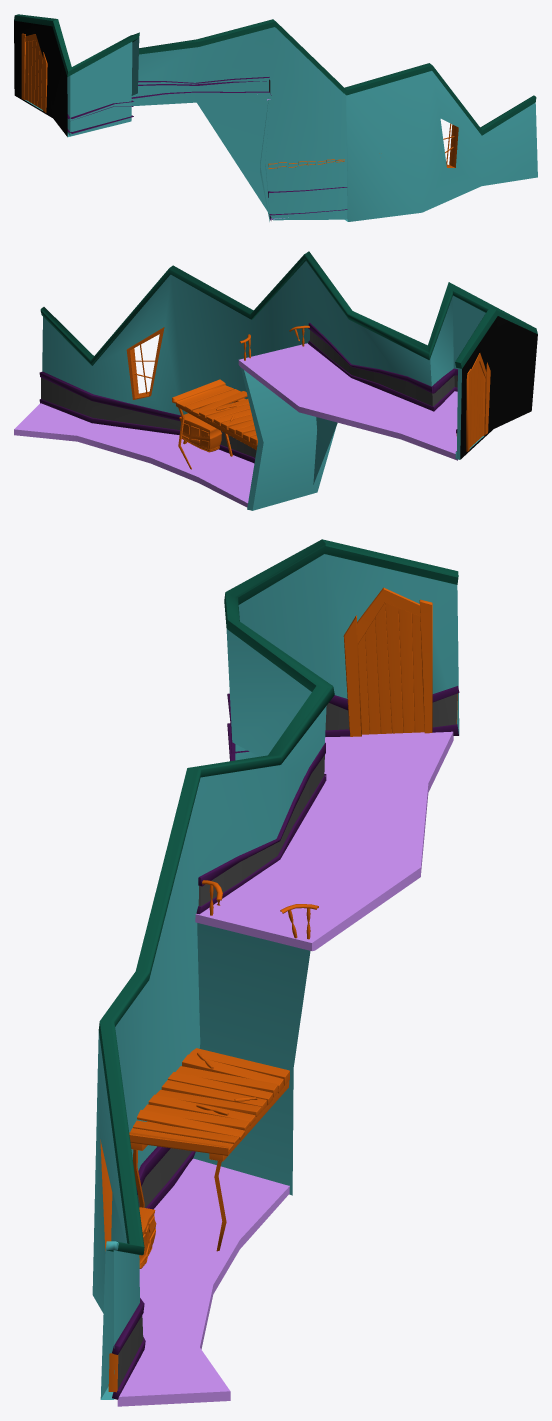
The model's file is Corridor_Platforming_1.FBX.
3 views of the same model, one above another, from view 1: azimuth 30°, elevation 25°; view 2: azimuth 150°, elevation 25°; view 3: azimuth 270°, elevation 25° (orthographic). The views are drawn at different scales.
Visible parts, largest first — view 1: Base, Door; view 2: Base, WoodenPlatform, Door, Furniture; view 3: Base, WoodenPlatform, Door.
Part boxes in pixels (x1=…): Base: x1=14, y1=14, x2=537, y2=221; Door: x1=24, y1=40, x2=42, y2=109; Base: x1=14, y1=251, x2=537, y2=510; WoodenPlatform: x1=172, y1=379, x2=257, y2=449; Door: x1=469, y1=362, x2=485, y2=447; Furniture: x1=179, y1=413, x2=221, y2=452; Base: x1=92, y1=539, x2=459, y2=1406; WoodenPlatform: x1=129, y1=1048, x2=289, y2=1161; Door: x1=358, y1=603, x2=424, y2=734.
Bounding box in the file's own units: 3367 × 1215 × 1650.
